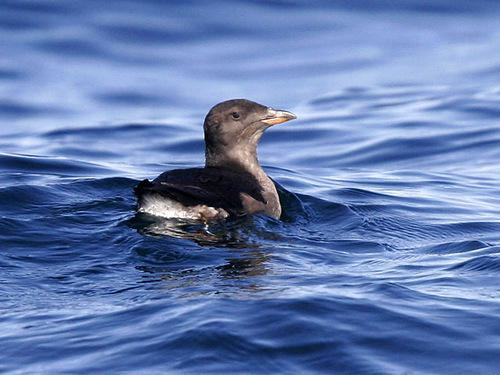008.Rhinoceros_Auklet: (131, 97, 298, 234)
